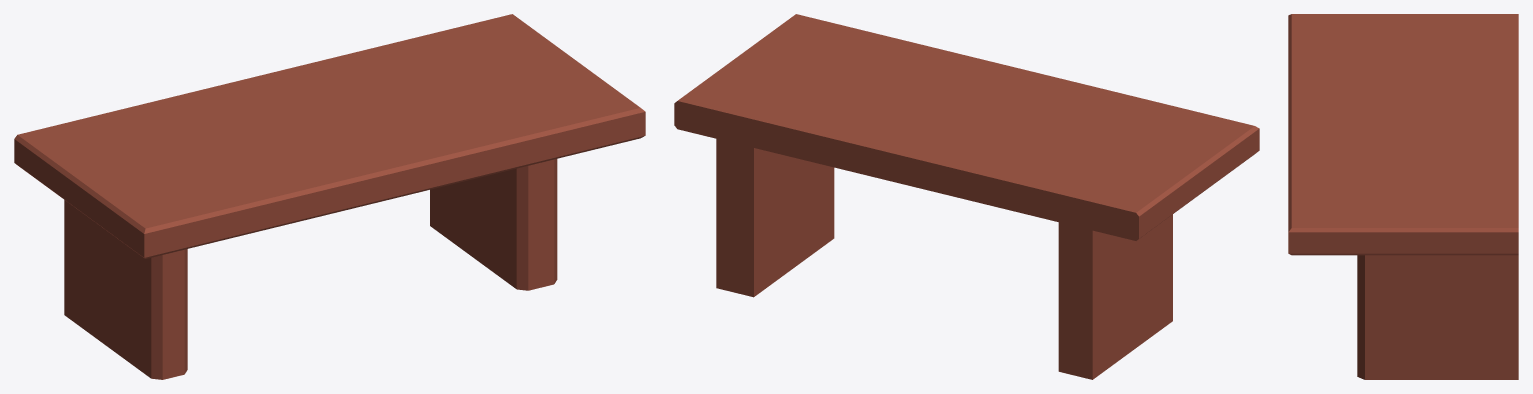
The model's file is electrical_table.fbx.
3 views of the same model, side by side, from view 1: azimuth 30°, elevation 25°; view 2: azimuth 150°, elevation 25°; view 3: azimuth 270°, elevation 25° (orthographic). The views are drawn at different scales.
Parts seen in each view (by area): view 1: Cube.012; view 2: Cube.012; view 3: Cube.012.
Part boxes in pixels (x1,y1,x2,y2): Cube.012: (14, 14, 645, 379); Cube.012: (674, 14, 1259, 379); Cube.012: (1288, 14, 1518, 379).
Size of the model in its own units: 200 by 73.1 by 89.81.
